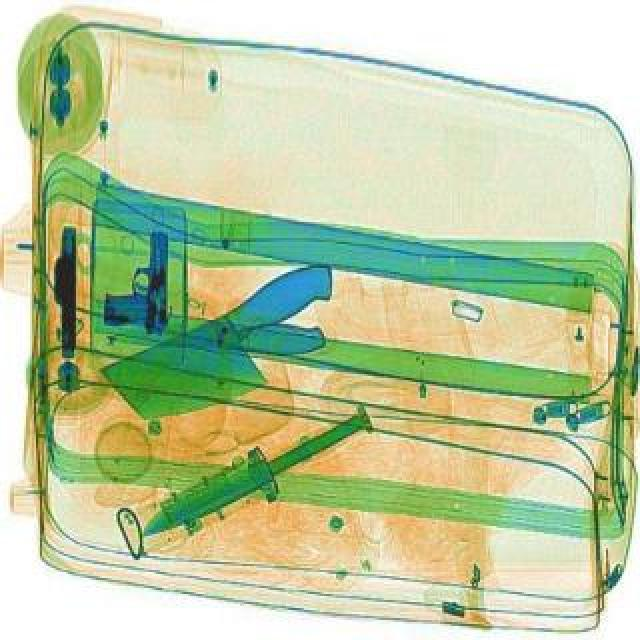gun: (102, 226, 170, 330), (54, 224, 78, 354)
knife: (92, 252, 370, 438), (128, 400, 368, 544), (102, 316, 324, 352)
